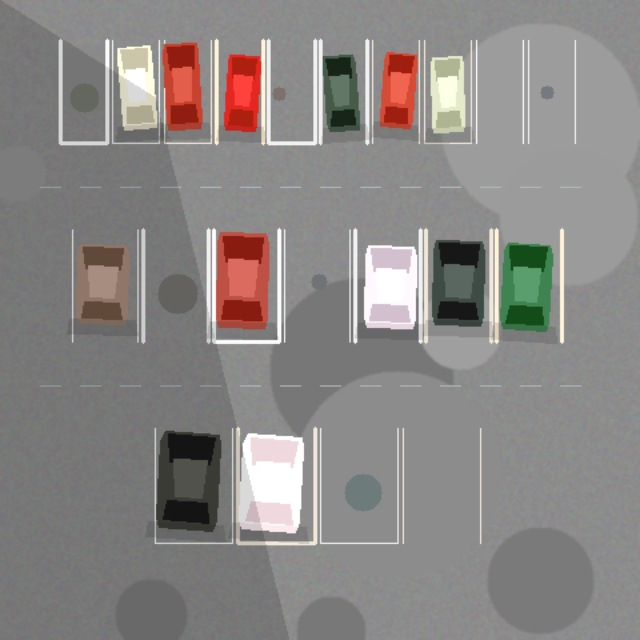space-empty: (320, 428, 397, 543), (403, 428, 480, 543), (143, 229, 208, 341), (284, 229, 349, 341), (60, 40, 107, 143), (268, 40, 315, 143), (476, 40, 523, 143), (528, 40, 575, 143)
space-occupied: (237, 428, 315, 543), (155, 428, 232, 543), (213, 229, 279, 341), (425, 229, 491, 341), (72, 229, 137, 341), (355, 229, 420, 341), (496, 229, 561, 341), (112, 40, 159, 143), (164, 40, 211, 143), (216, 40, 263, 143), (320, 40, 367, 143), (372, 40, 419, 143), (424, 40, 471, 143)
